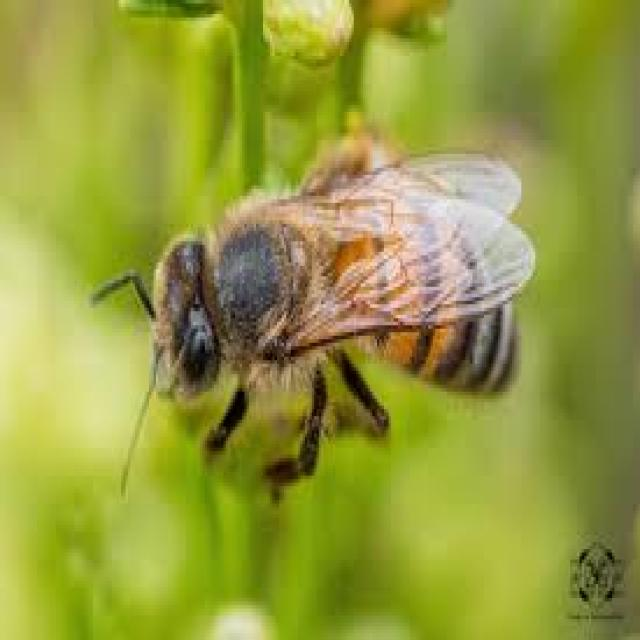Bees: (90, 124, 538, 500)
